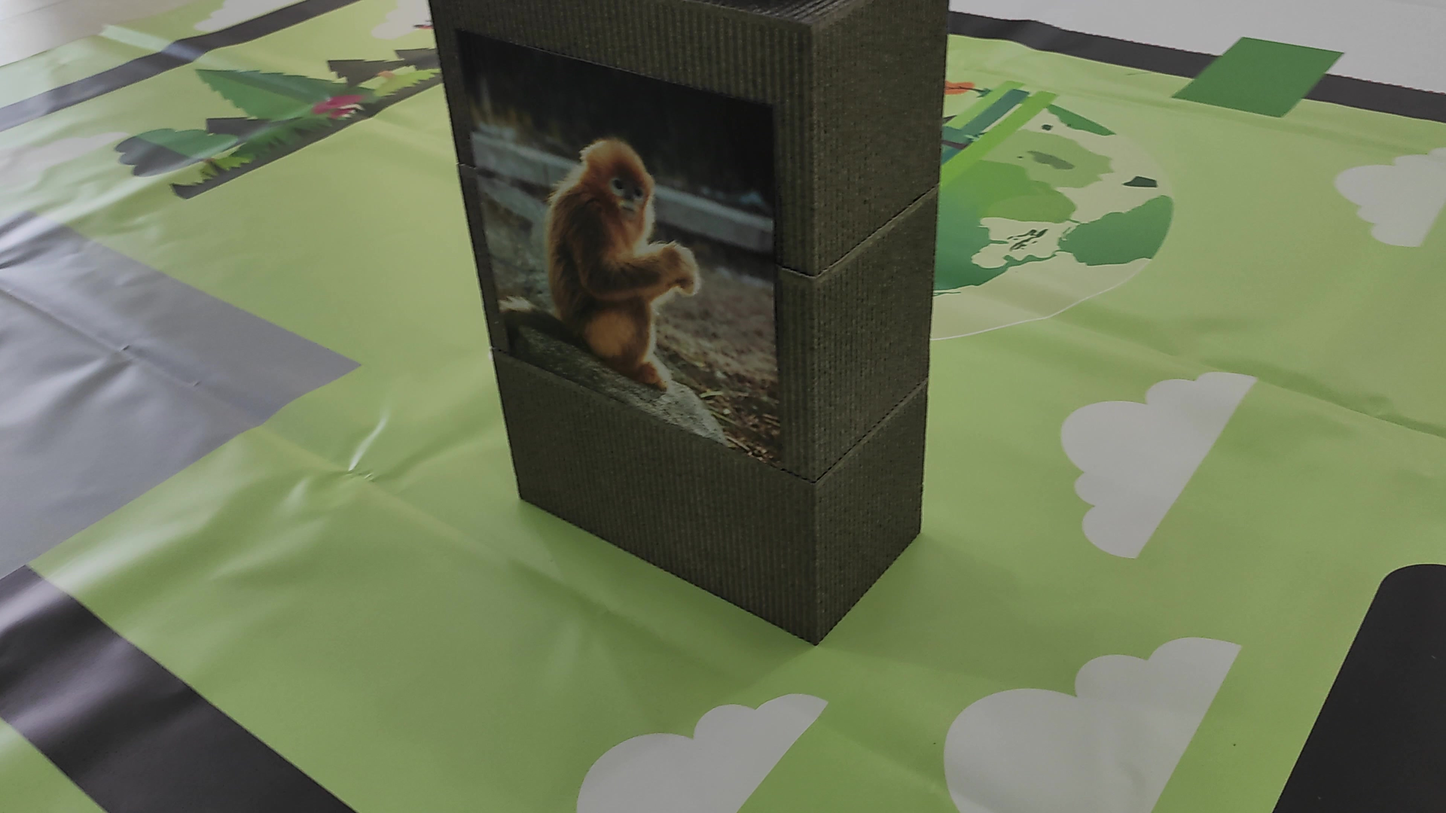monkey: (500, 81, 750, 385)
